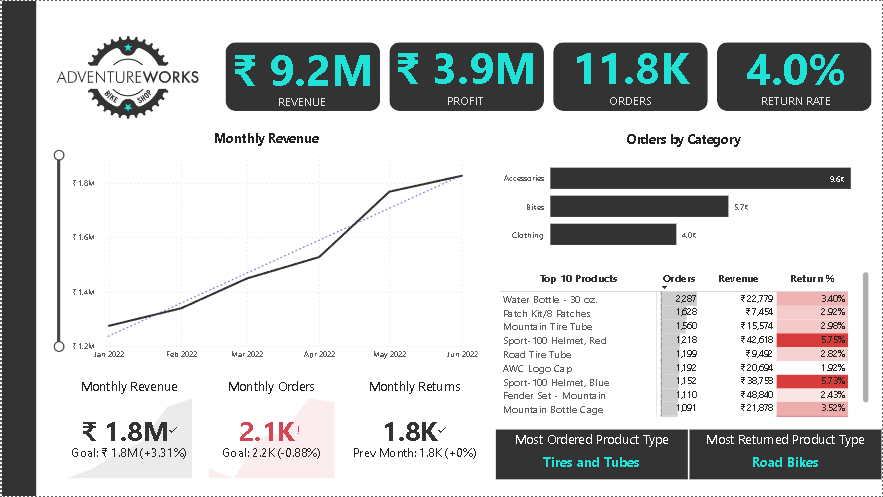

The dashboard page shown, as its layout file describes it:
{"tool":"powerbi","page":{"name":"Exec Dashboard","canvas":[1280,720],"ordinal":0},"visuals":[{"type":"image","title":"AW Logo","box":[51.7,21.7,263.3,178.3],"z":0},{"type":"shape","box":[325,60,225,100],"z":1000},{"type":"shape","box":[1040,60,225,100],"z":2000},{"type":"shape","box":[563.3,60,225,100],"z":3000},{"type":"shape","box":[801.7,60,225,100],"z":4000},{"type":"shape","title":"Left Nav Background","box":[0,0,50,720],"z":5000},{"type":"card","fields":{"Values":["Measure Table.Total Revenue"]},"box":[297.2,24.4,279.4,162.4],"z":6000},{"type":"card","fields":{"Values":["Measure Table.Total Profit"]},"box":[535.7,22,278.8,163.9],"z":7000},{"type":"card","fields":{"Values":["Measure Table.Total Orders"]},"box":[775.7,22,278.8,163.9],"z":8000},{"type":"card","fields":{"Values":["Measure Table.Return Rate"]},"box":[1029.8,22.7,250.1,162.4],"z":9000},{"type":"lineChart","title":"Monthly Revenue","fields":{"Y":["Measure Table.Total Revenue"],"Category":["Calendar Lookup.Start of Month"]},"box":[71.5,185.2,625.4,347.6],"z":10000},{"type":"kpi","title":"Monthly Revenue","fields":{"Indicator":["Measure Table.Total Revenue"],"TrendLine":["Calendar Lookup.Start of Month"],"Goal":["Measure Table.Previous Month Revenue"]},"box":[87.7,547.4,193.3,152.7],"z":10001},{"type":"kpi","title":"Monthly Returns","fields":{"TrendLine":["Calendar Lookup.Start of Month"],"Indicator":["Measure Table.Total Returns"],"Goal":["Measure Table.Previous Month Return"]},"box":[503.5,547.4,193.3,152.7],"z":10002},{"type":"kpi","title":"Monthly Orders","fields":{"TrendLine":["Calendar Lookup.Start of Month"],"Goal":["Measure Table.Previous Month Orders"],"Indicator":["Measure Table.Total Orders"]},"box":[295.6,547.4,193.3,152.7],"z":10003},{"type":"clusteredBarChart","title":"Orders by Category","fields":{"Category":["Product Categories Lookup.CategoryName"],"Y":["Measure Table.Total Orders"]},"box":[718.2,185.9,547.6,191],"z":10004},{"type":"pivotTable","fields":{"Rows":["Product Lookup.ProductName"],"Values":["Measure Table.Total Orders","Measure Table.Total Revenue","Measure Table.Return Rate"]},"box":[718.2,388.7,547.6,221.4],"z":10005},{"type":"card","title":"Most Ordered Product Type","fields":{"Values":["Min(Product Subcategories Lookup.SubcategoryName)"]},"box":[718.2,623.6,278.8,72.7],"z":10006},{"type":"card","title":"Most Returned Product Type","fields":{"Values":["Min(Product Subcategories Lookup.SubcategoryName)"]},"box":[1000.5,623.6,278.8,72.7],"z":10007}]}

Visuals, with their boxes in screenshot pixels (x1, y1, x2, y2), scaled from the page's 1280x720 canvas onto the 883x497 screenshot:
"AW Logo" image: left=36, top=15, right=217, bottom=138
shape: left=224, top=41, right=379, bottom=110
shape: left=717, top=41, right=873, bottom=110
shape: left=389, top=41, right=544, bottom=110
shape: left=553, top=41, right=708, bottom=110
"Left Nav Background" shape: left=0, top=0, right=34, bottom=496
card - Measure Table.Total Revenue: left=205, top=17, right=398, bottom=129
card - Measure Table.Total Profit: left=370, top=15, right=562, bottom=128
card - Measure Table.Total Orders: left=535, top=15, right=727, bottom=128
card - Measure Table.Return Rate: left=710, top=16, right=882, bottom=128
"Monthly Revenue" lineChart: left=49, top=128, right=481, bottom=368
"Monthly Revenue" kpi: left=60, top=378, right=194, bottom=483
"Monthly Returns" kpi: left=347, top=378, right=481, bottom=483
"Monthly Orders" kpi: left=204, top=378, right=337, bottom=483
"Orders by Category" clusteredBarChart: left=495, top=128, right=873, bottom=260
pivotTable - Product Lookup.ProductName x Measure Table.Total Orders: left=495, top=268, right=873, bottom=421
"Most Ordered Product Type" card: left=495, top=430, right=688, bottom=481
"Most Returned Product Type" card: left=690, top=430, right=882, bottom=481
